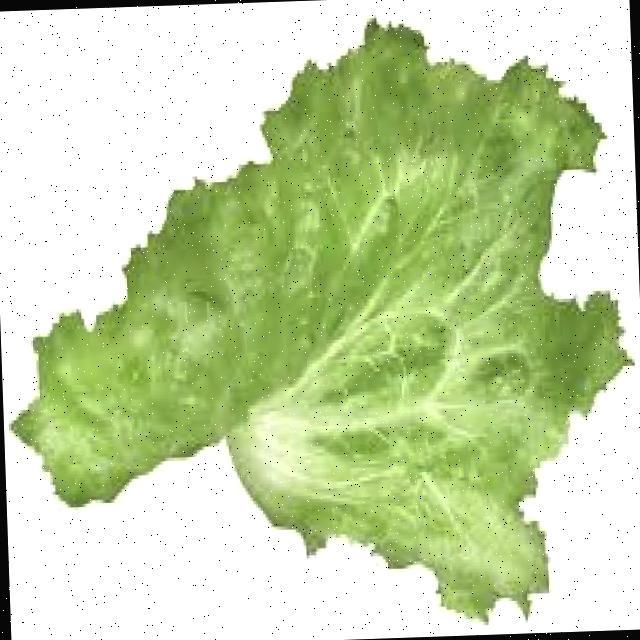healthy: (78, 74, 550, 530)
